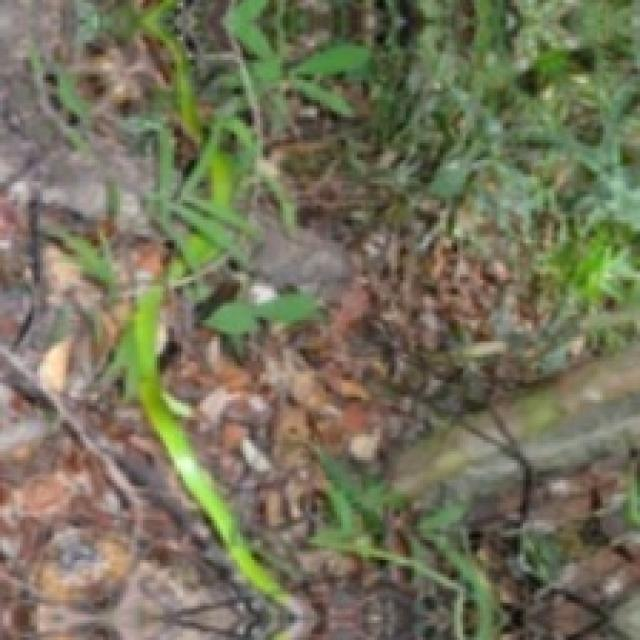red-tailed green ratsnake: (116, 286, 288, 604), (201, 129, 239, 210), (169, 230, 229, 278), (172, 50, 202, 139)
